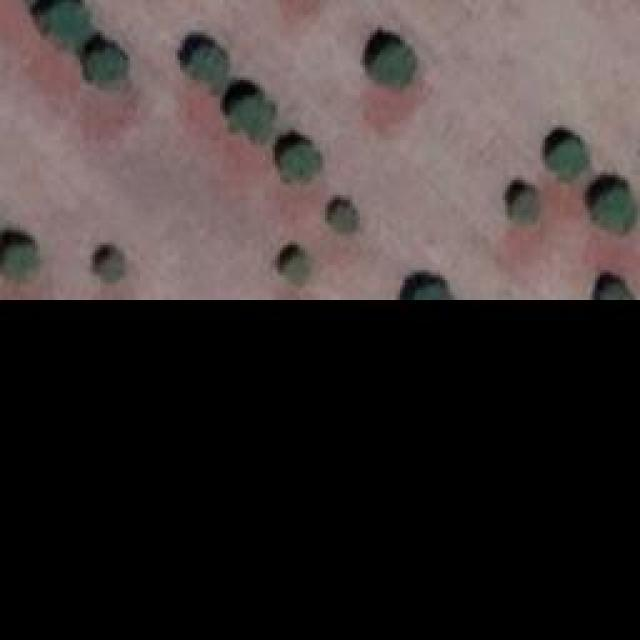Tree: (40, 0, 95, 48), (225, 88, 275, 138), (373, 40, 416, 85), (88, 48, 128, 91), (547, 138, 585, 183), (278, 143, 318, 183), (598, 185, 633, 230), (3, 240, 38, 280), (188, 45, 223, 85), (288, 248, 313, 283), (97, 250, 125, 280), (513, 183, 536, 218), (333, 203, 356, 236)
